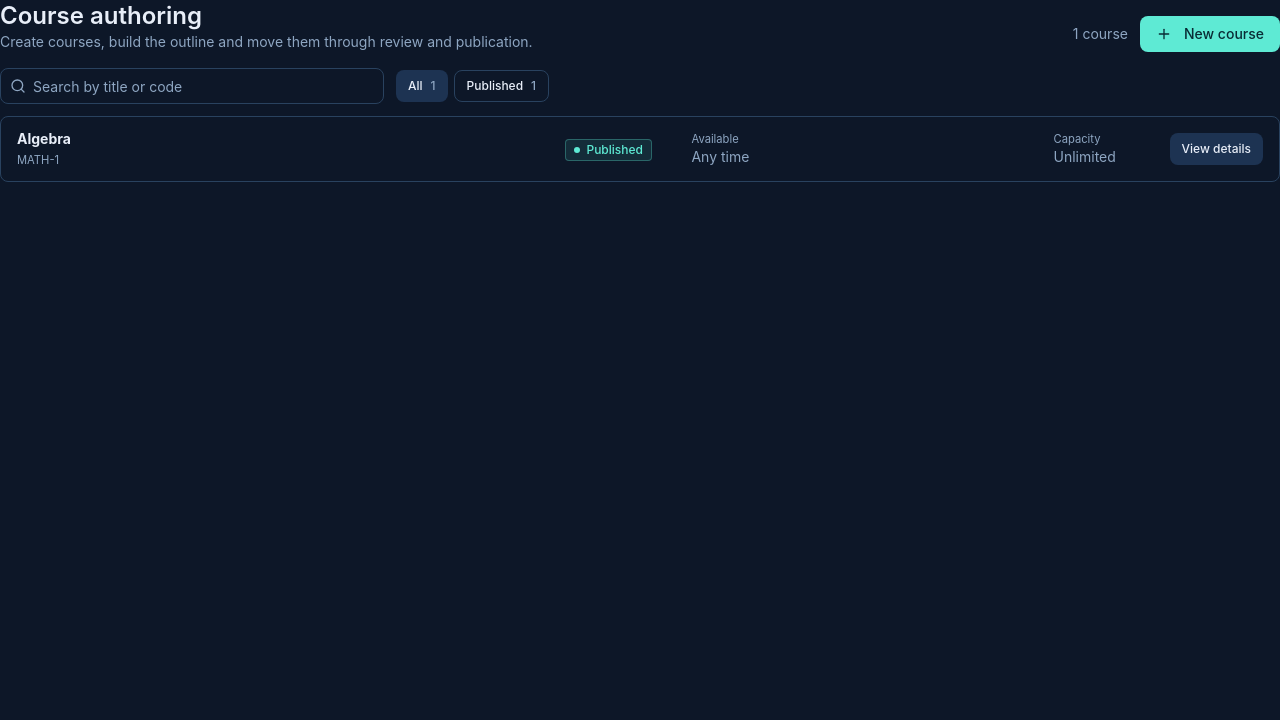
Test: CoursesPage authoring › locks the details once the course is published and offers a new version instead
Step 1. Click the button with aria-label "View details for Algebra" → [1216, 149], box [1170,133,1263,165]
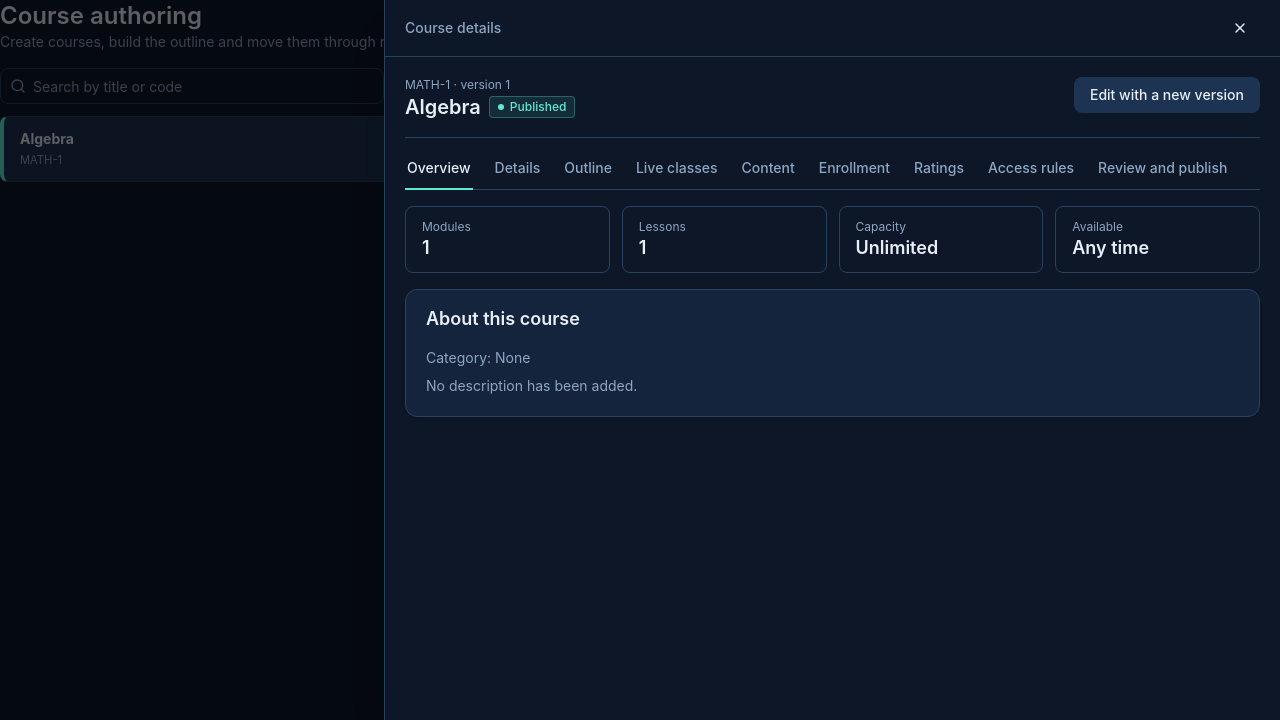
Expected: the button "Edit with a new version" is shown, [1074,77,1260,113]
Step 2. Click the tab "Details" → [517, 172], box [492,154,542,190]
(page scrolled)
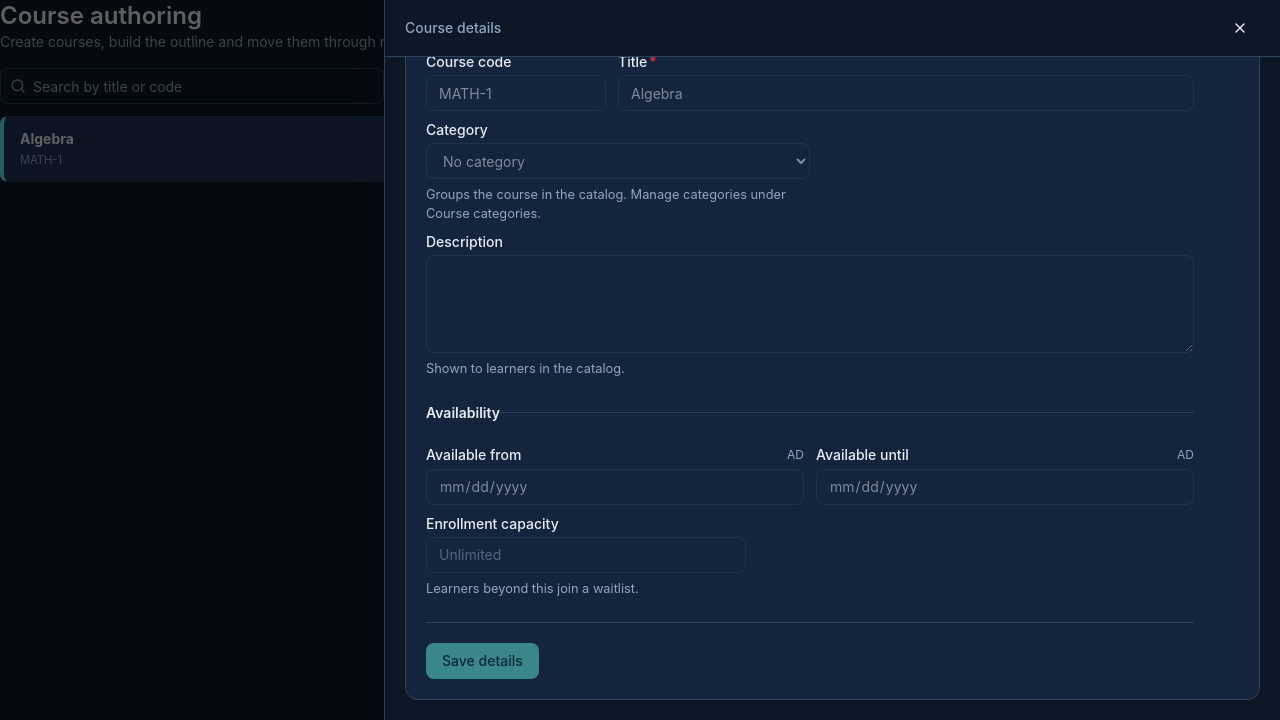
Expected: the button "Save details" is disabled, [426,643,539,679]
